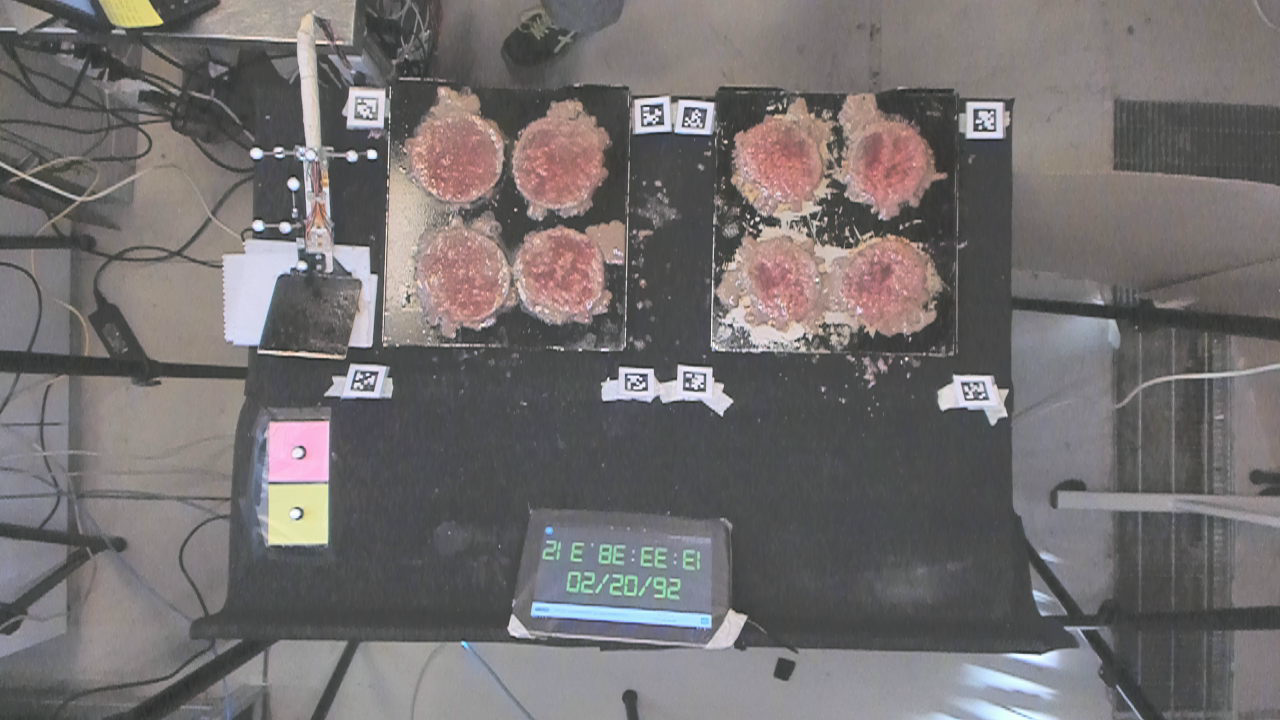hamburger: (417, 224, 507, 332), (513, 223, 605, 324), (413, 112, 505, 205), (515, 114, 607, 206), (845, 237, 933, 329), (737, 234, 822, 329), (850, 117, 937, 209), (746, 116, 824, 210)
marker: (268, 419, 330, 480)
